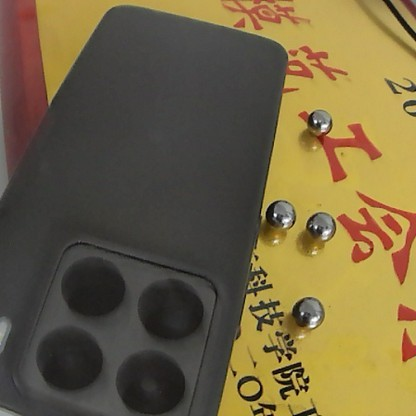ironball: (283, 294, 326, 333), (298, 103, 336, 145), (266, 199, 303, 232), (306, 210, 334, 245)
